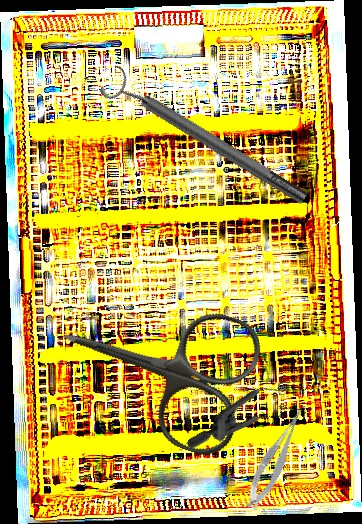Fixation Ring: (97, 61, 314, 217)
Iris Scissors: (40, 267, 270, 463)
Micro Scissor: (236, 405, 317, 513)
Speculum: (185, 346, 322, 492)
